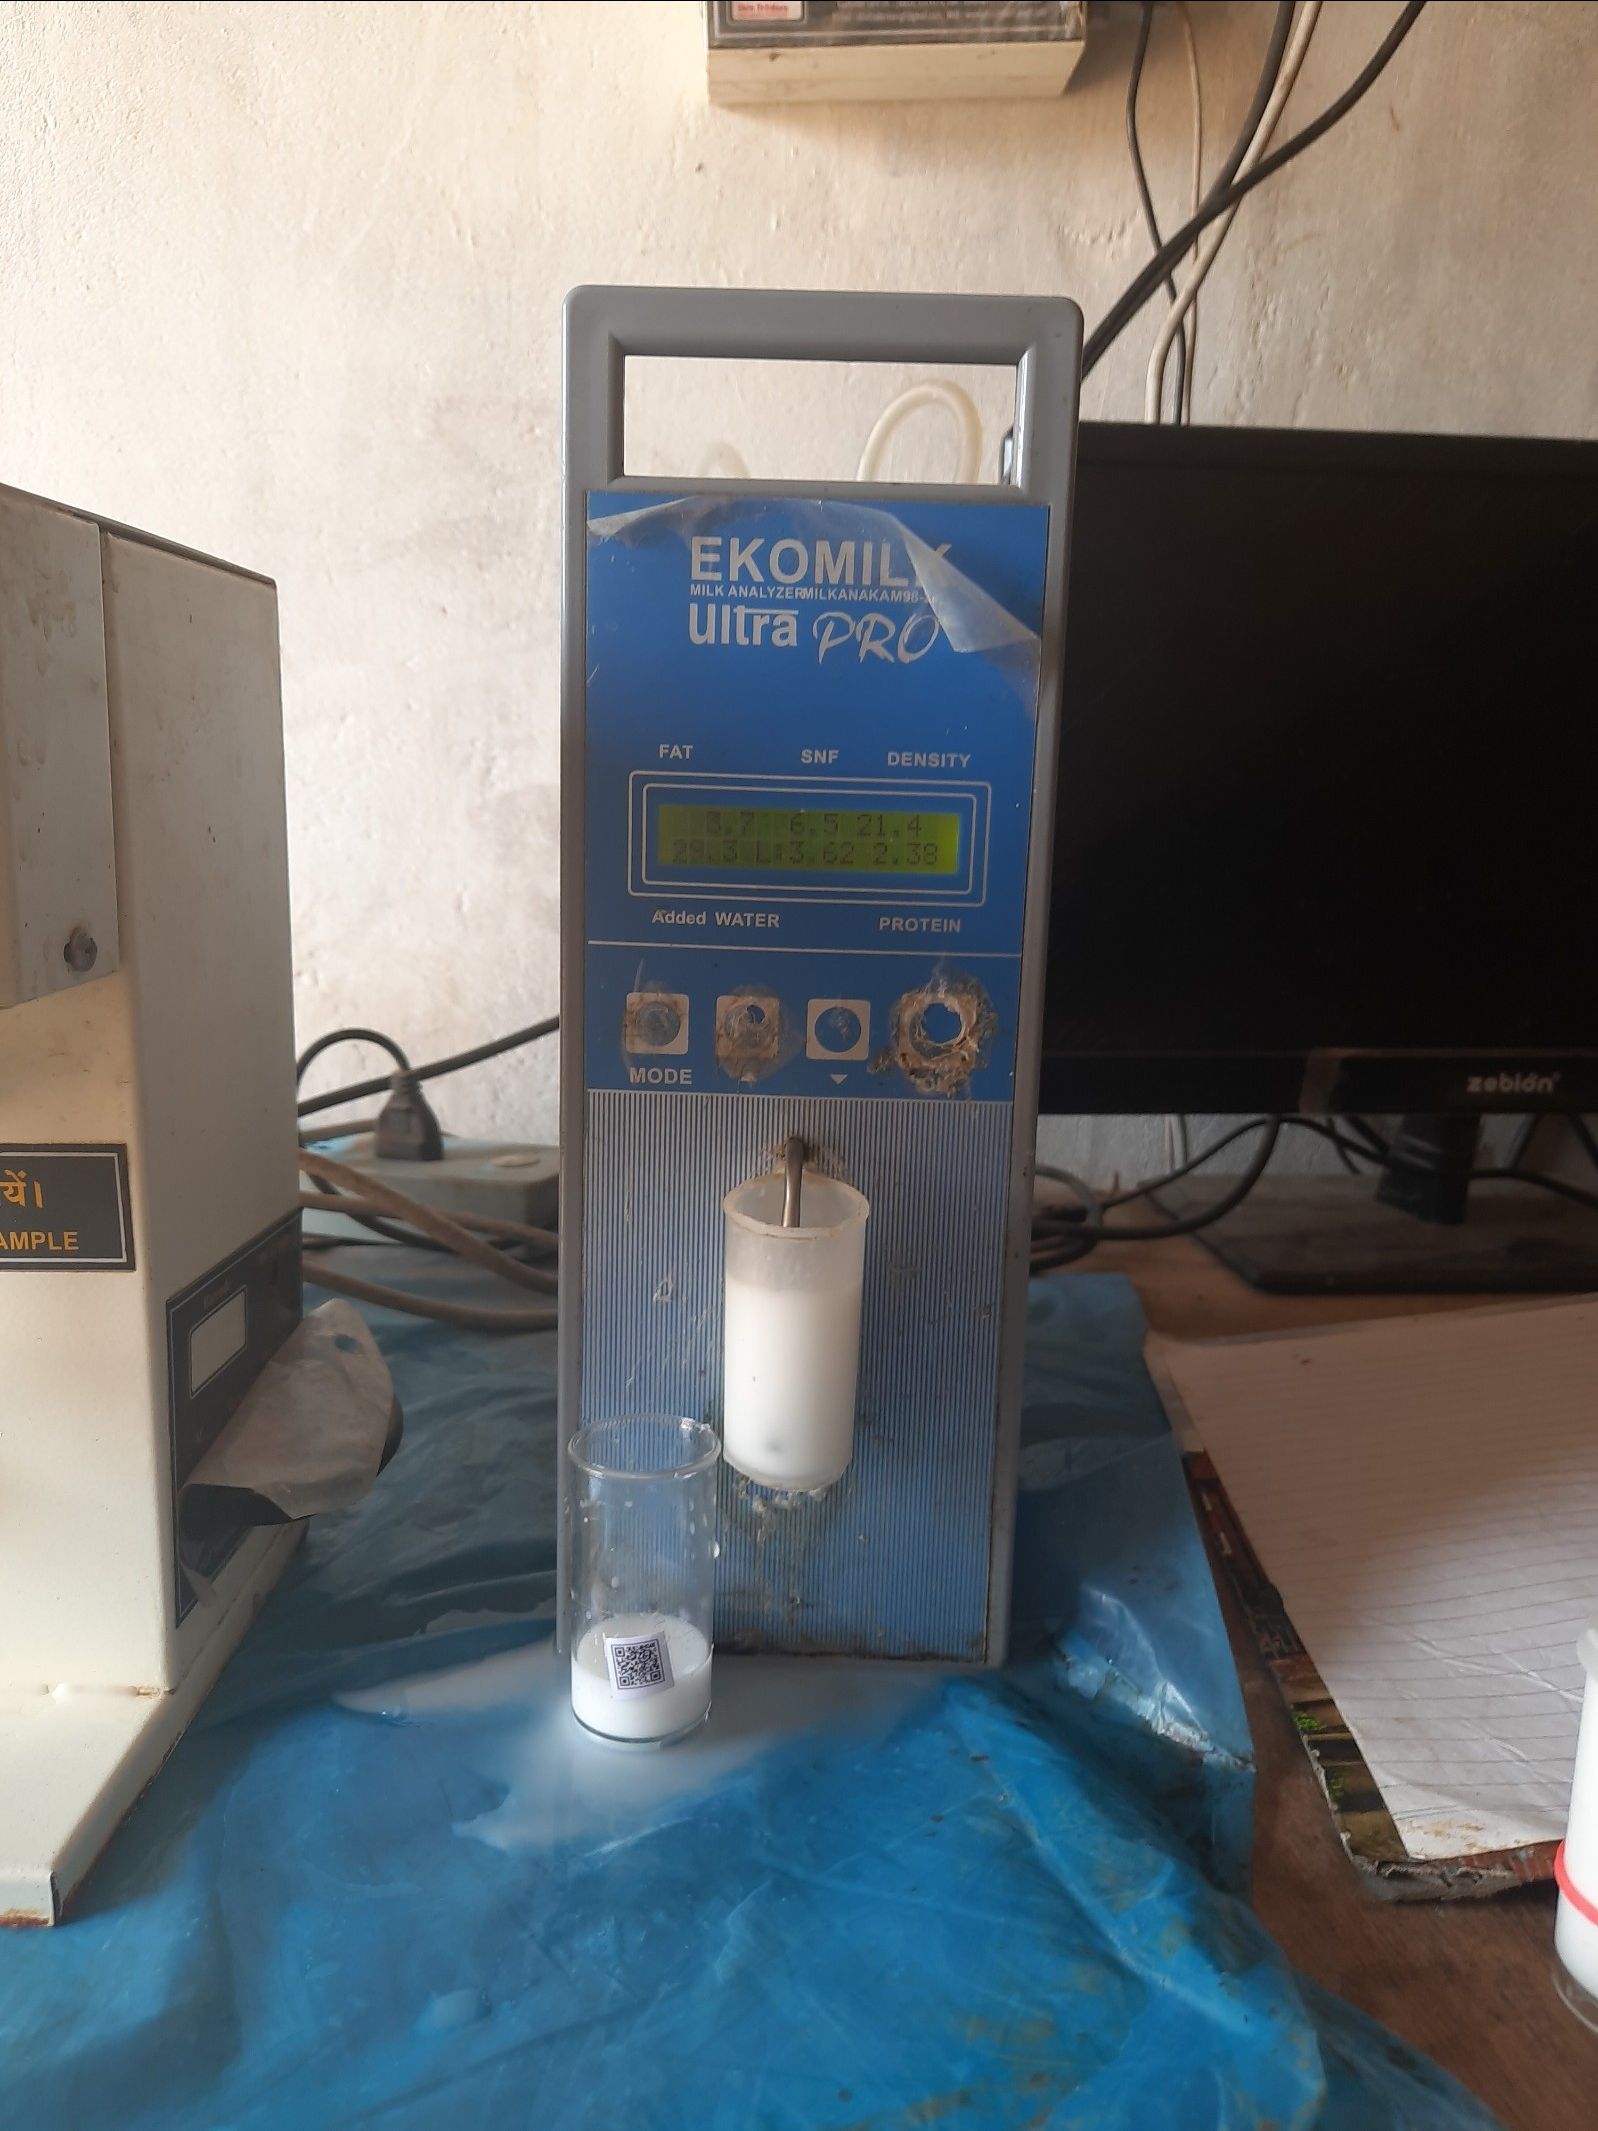lcd: (626, 784, 984, 899)
qr: (587, 1623, 690, 1703)
